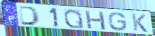1: (48, 8, 60, 28)
D: (18, 5, 41, 26)
G: (108, 12, 128, 32)
H: (84, 10, 107, 31)
K: (131, 13, 149, 33)
Q: (63, 8, 86, 29)
